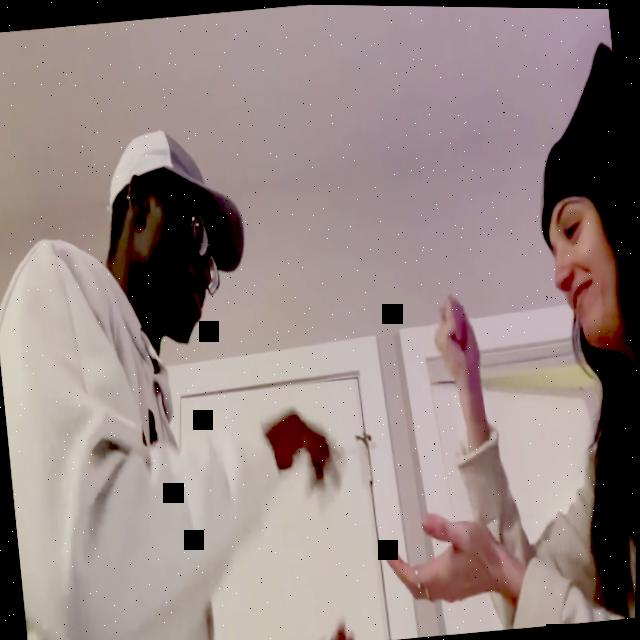Paper: (261, 398, 351, 509)
Rock: (428, 294, 486, 397)
